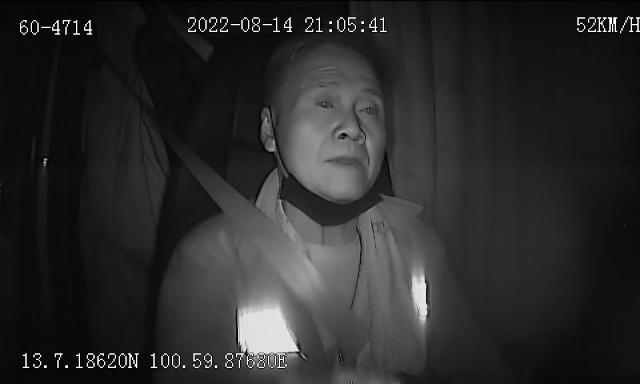SafeDriving: (352, 90, 384, 122), (310, 87, 341, 118)
Seatbelt: (180, 152, 374, 364)
